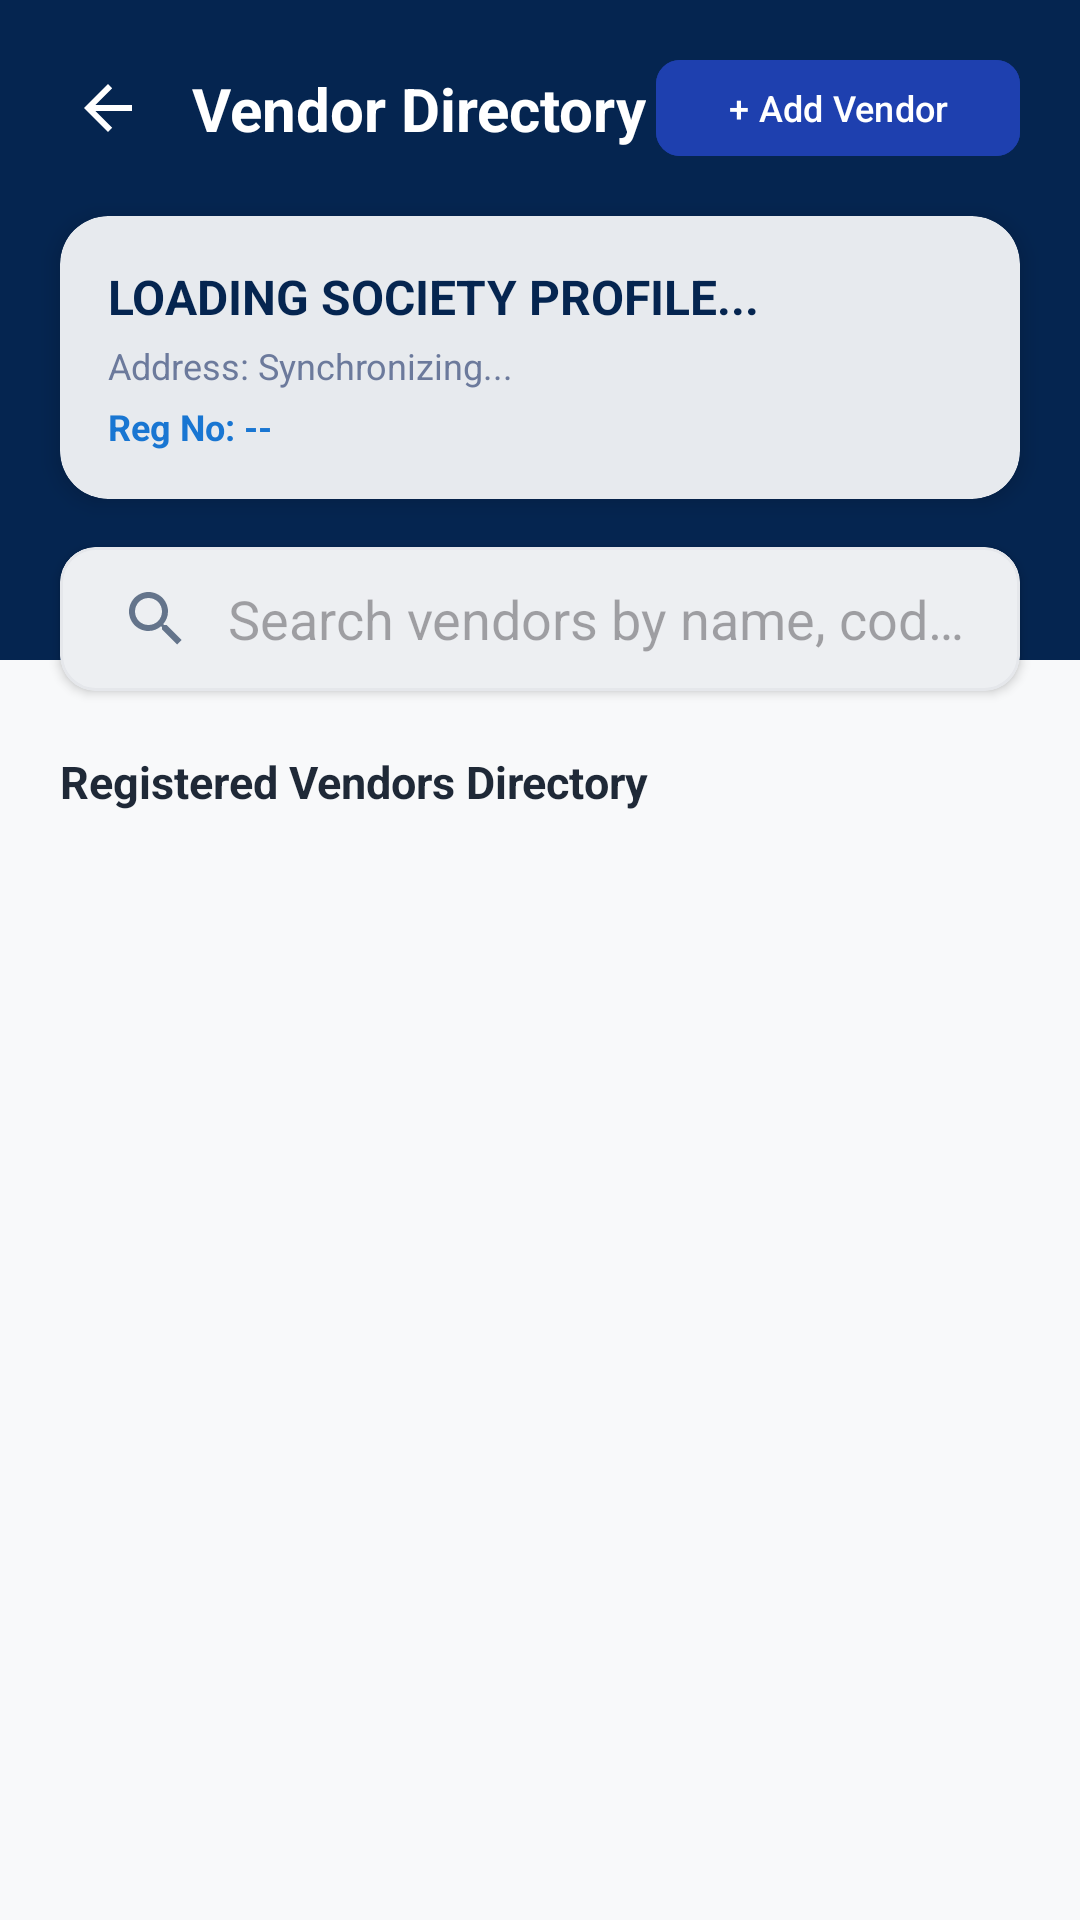

Icons on this 1080w x 1920h Android screen, each with the point to tap as (x=x, y=y):
Back: (x=108, y=108)
